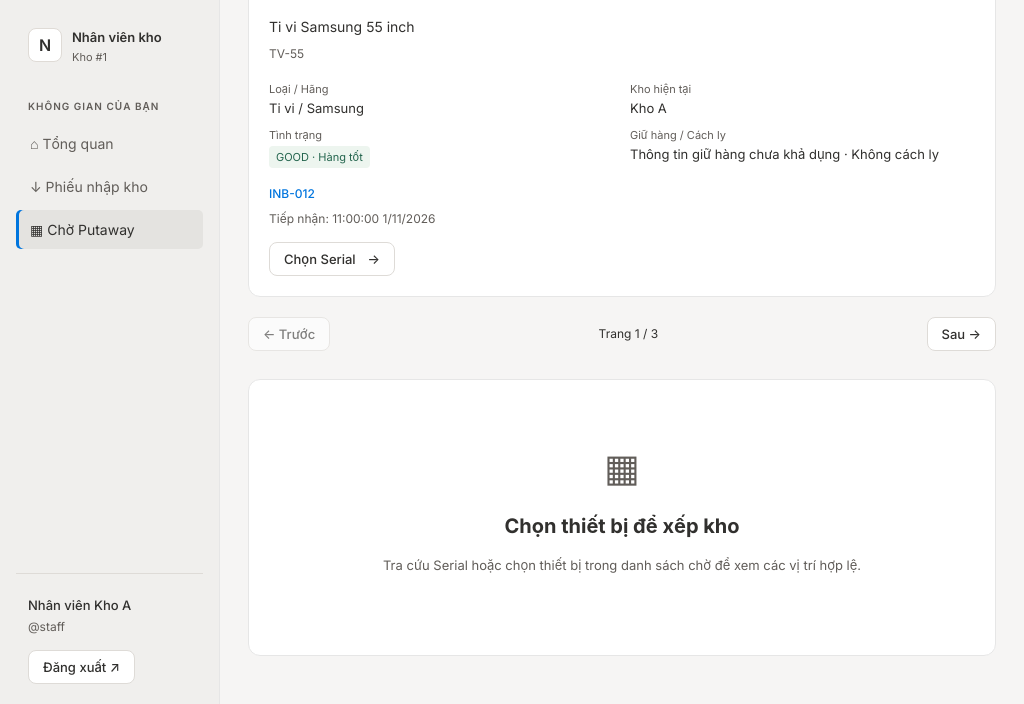
Test case: sends search and pagination to the server and displays volume with m³ for tiers
(page scrolled)
Expected: the text "Trang 1 / 3" is shown, [599,326,658,341]
Click the button "Sau →": (961, 334) [926,317,996,351]
(page scrolled)
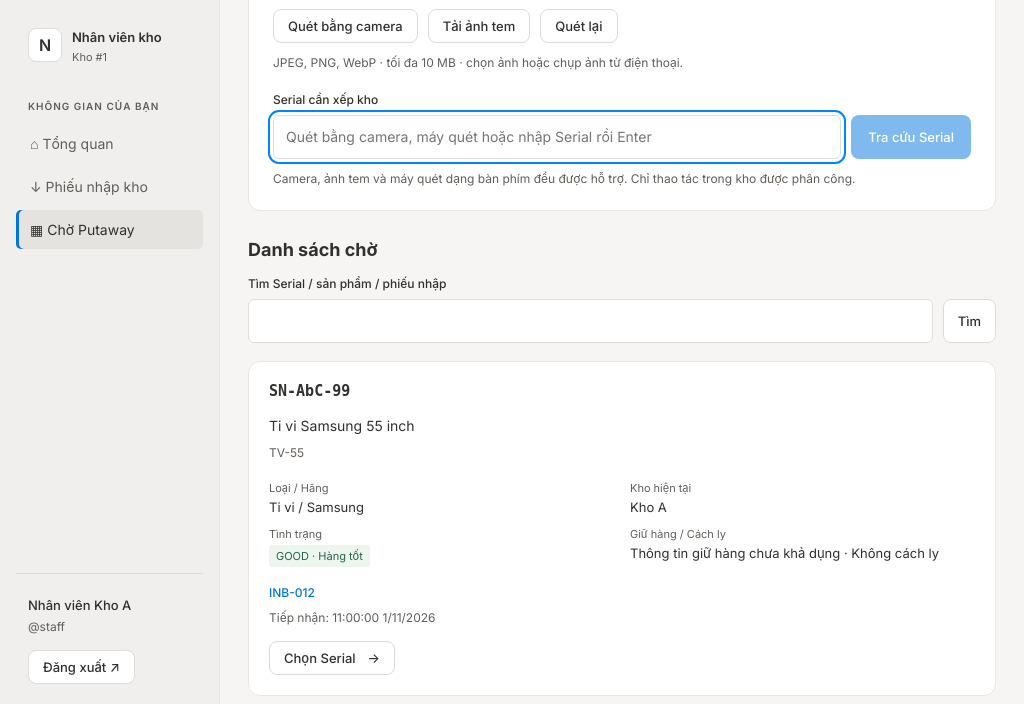
In the search field labelled "Tìm Serial / sản phẩm / phiếu nhập": (590, 321) [248,299,933,343], type "TV 55"
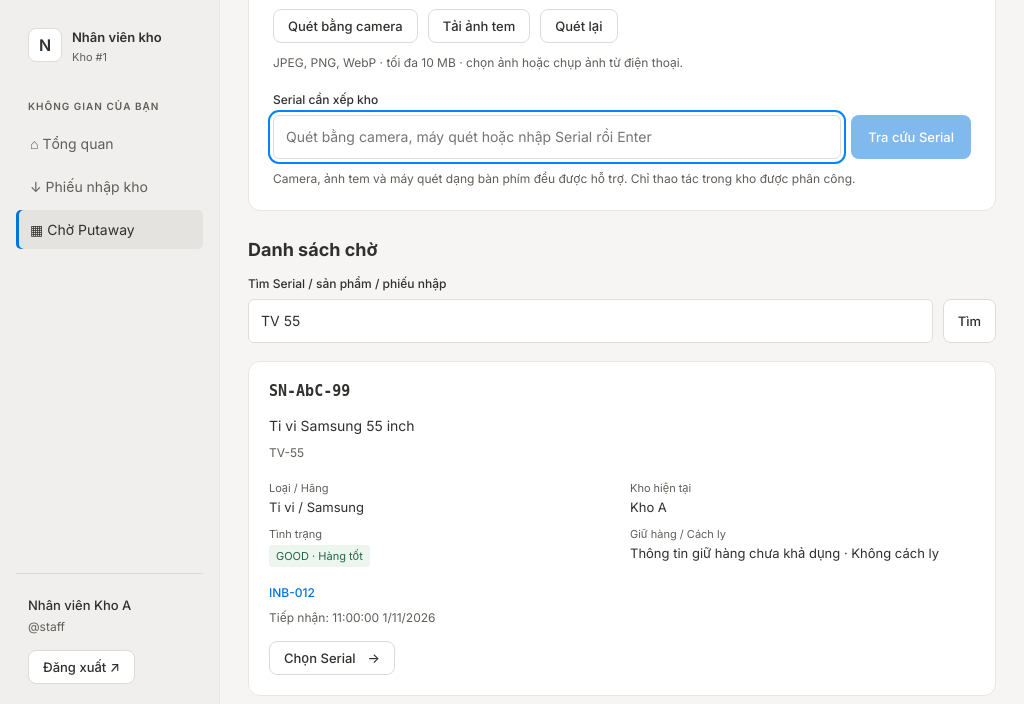
Submit the form "Tìm", box [248,276,996,343]
Click the button named "Chọn Serial SN-AbC-99": (332, 658) [269,641,395,675]
(page scrolled)
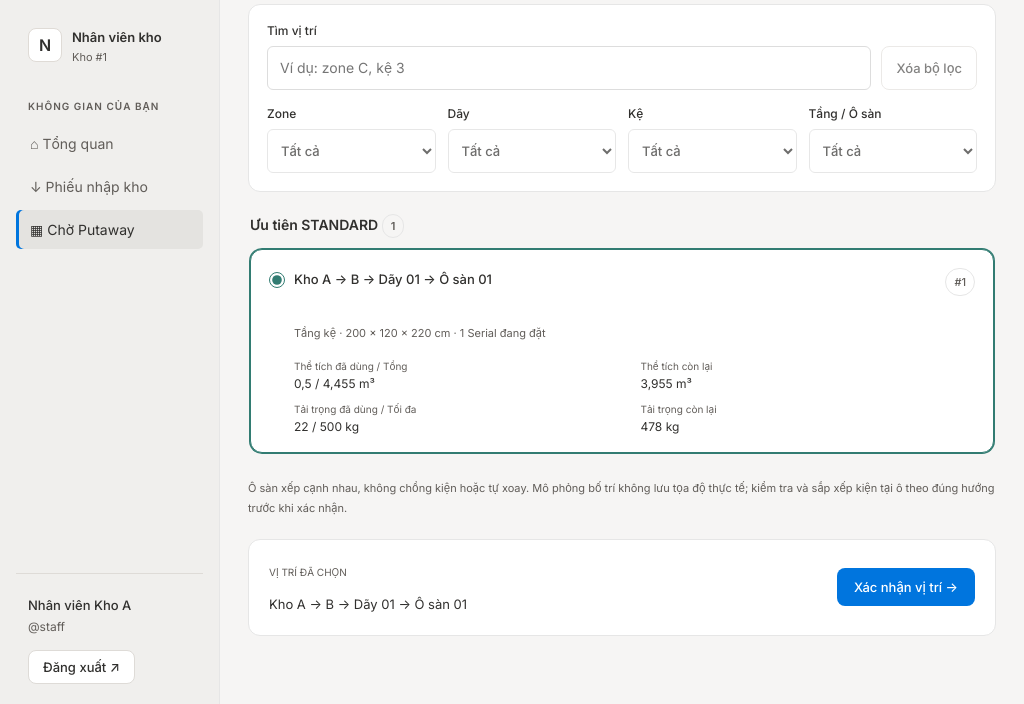
Expected: the radio button labelled "Kho A → B" is shown, [269,272,285,288]
Expected: the text "Thể tích còn lại" is shown, [640,360,712,372]
Expected: the text "3,955 m³" is shown, [640,376,692,391]
